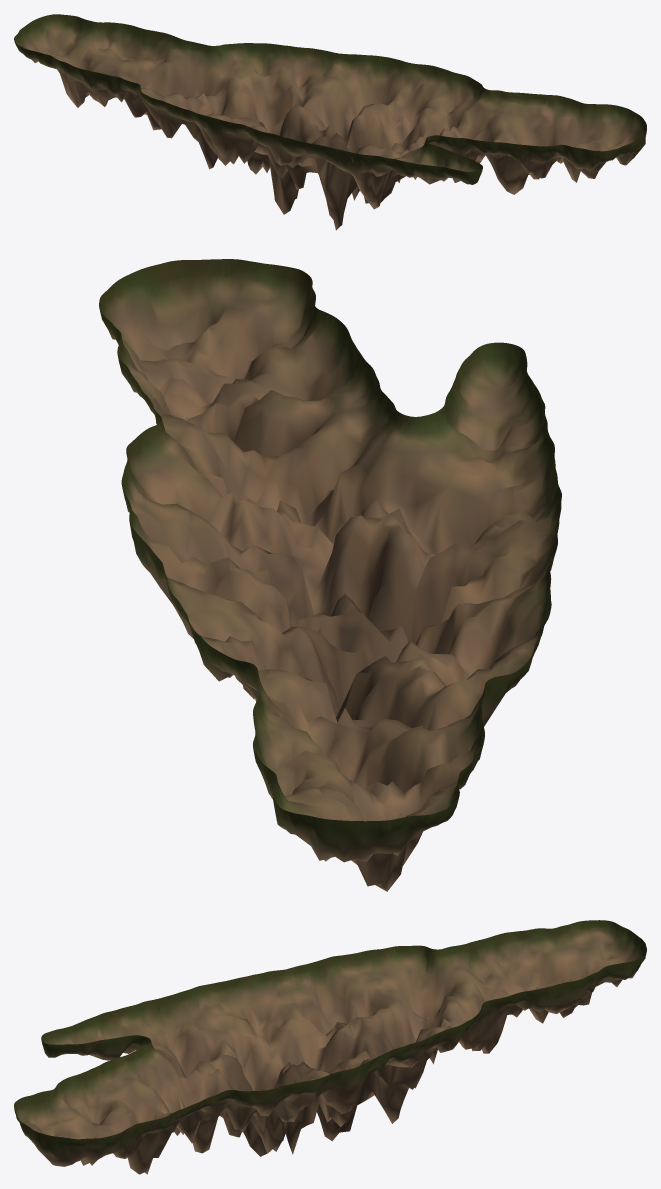
The model's file is SM_H14_IslandRock.fbx.
3 renders of one model, top to bottom at view 1: azimuth 30°, elevation 25°; view 2: azimuth 150°, elevation 25°; view 3: azimuth 270°, elevation 25°, orthographic. The views are drawn at different scales.
Visible parts, largest first — view 1: SM_H14_IslandRock; view 2: SM_H14_IslandRock; view 3: SM_H14_IslandRock.
Boxes of the visible parts, bbox=[...] form: SM_H14_IslandRock: bbox=[14, 14, 646, 230]; SM_H14_IslandRock: bbox=[99, 259, 561, 891]; SM_H14_IslandRock: bbox=[14, 920, 646, 1174].
Size of the model in its own units: 294 by 87.31 by 360.
